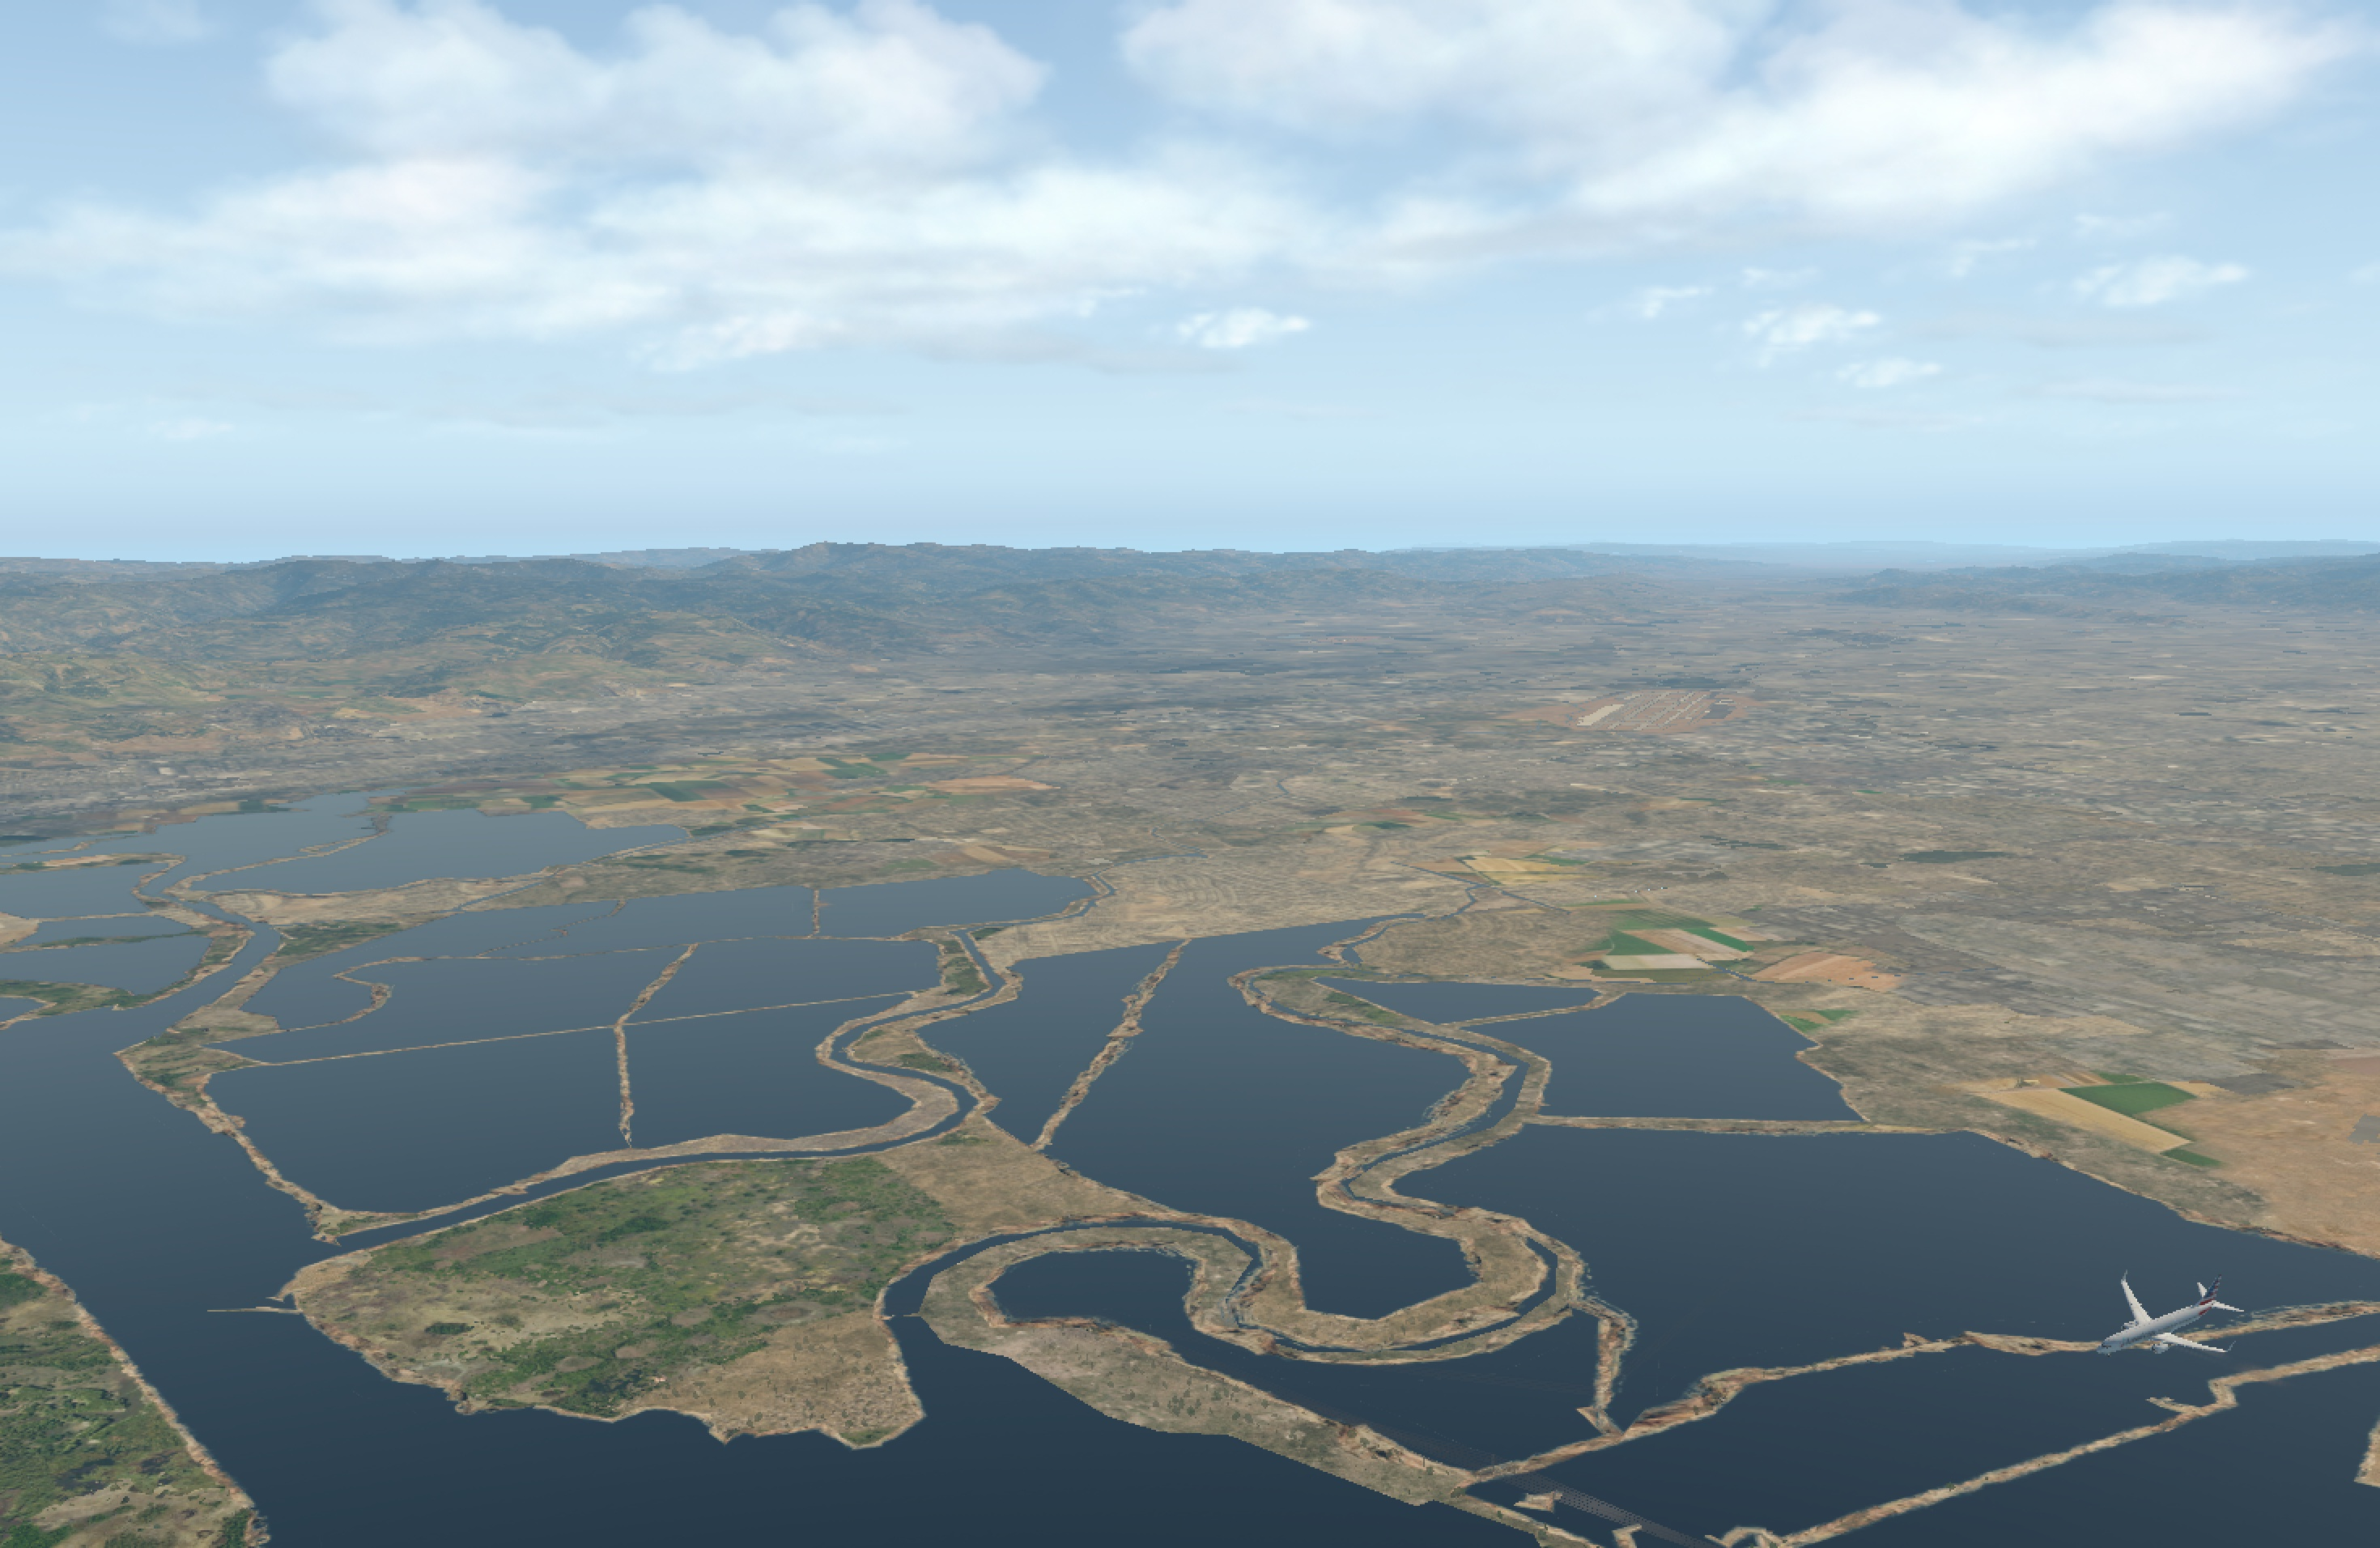aircraft: (2085, 1305, 2224, 1355)
